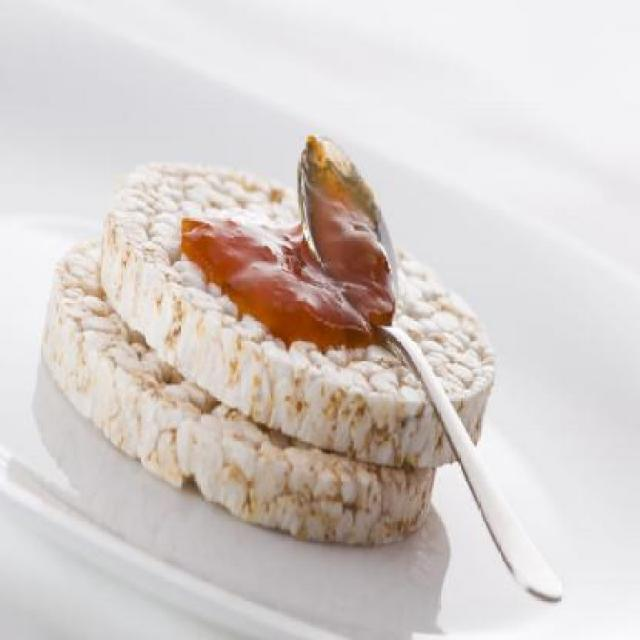Gallette di riso packaged: (106, 157, 488, 480)
